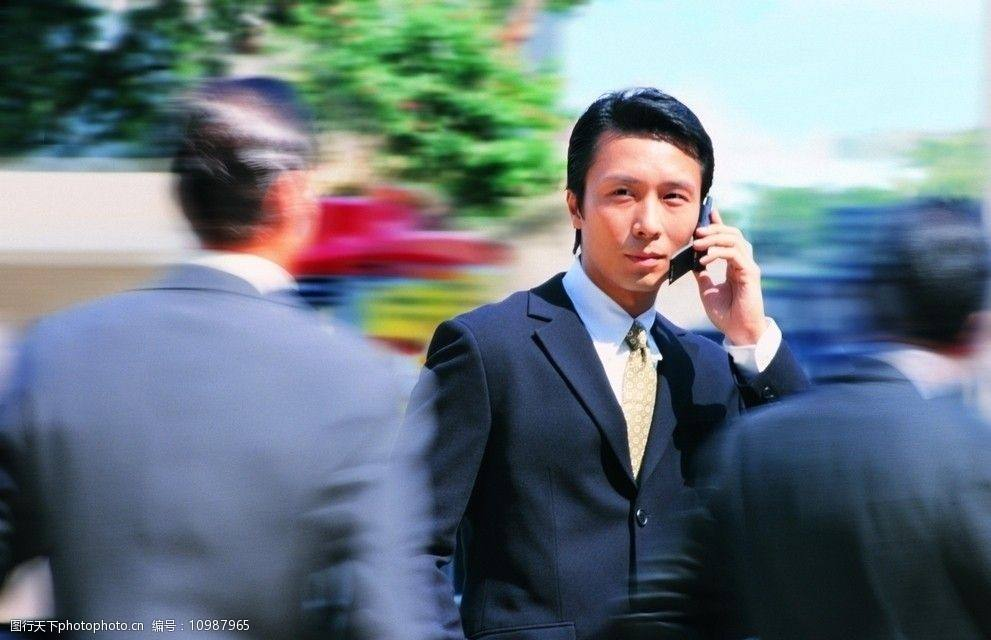calling: (665, 186, 767, 341)
